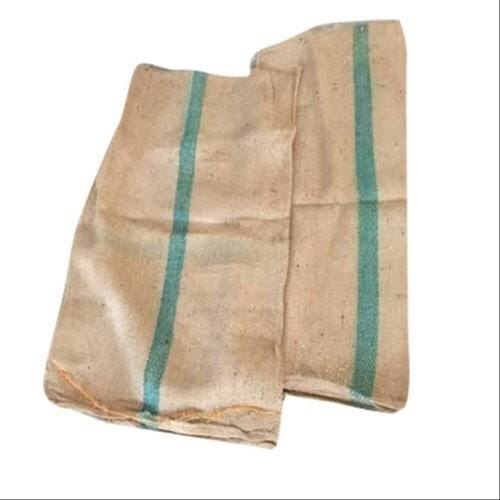jutebag: (42, 19, 412, 450)
